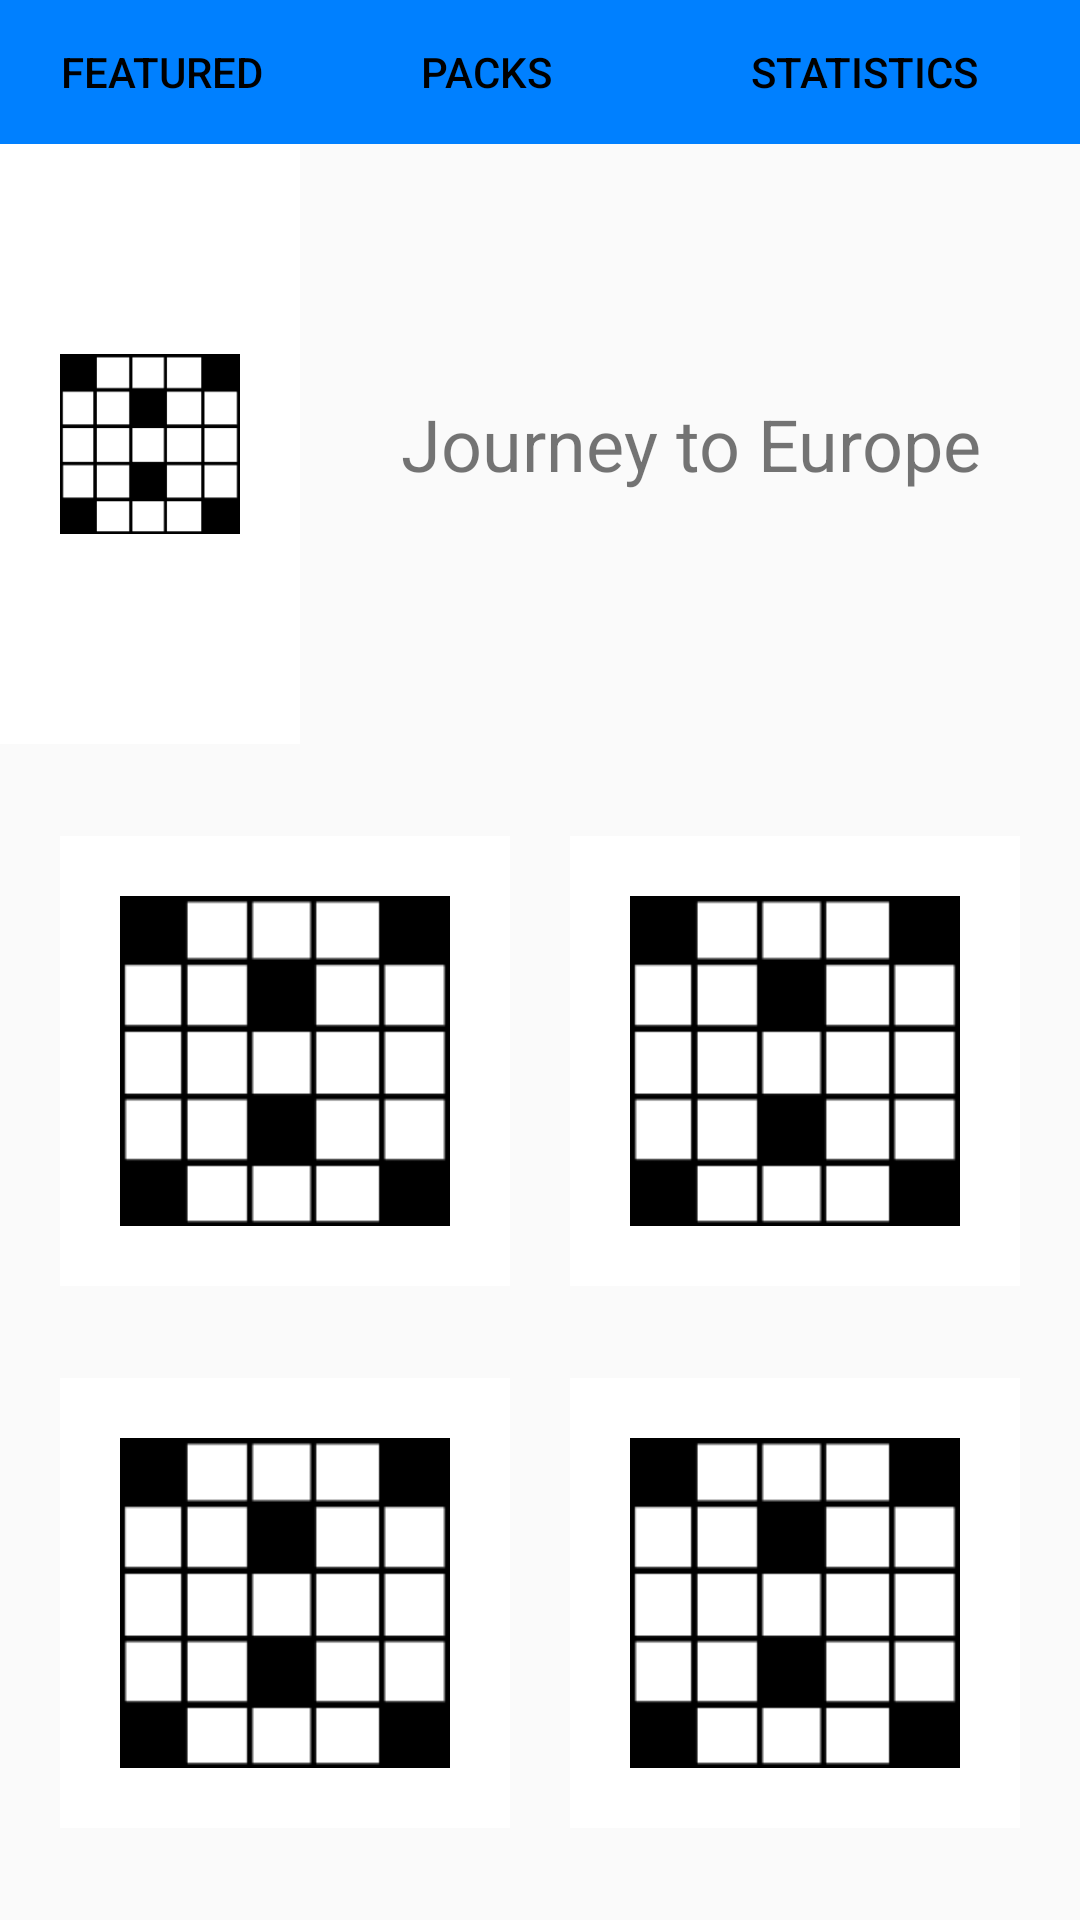

Icon bounding boxes for this 1080px×1920px phone screenshot, format bbox=(x1, y1, x2, y2):
open daily crossword: bbox=(60, 354, 240, 534), bbox=(120, 896, 450, 1226), bbox=(630, 896, 960, 1226), bbox=(120, 1438, 450, 1768), bbox=(630, 1438, 960, 1768)
